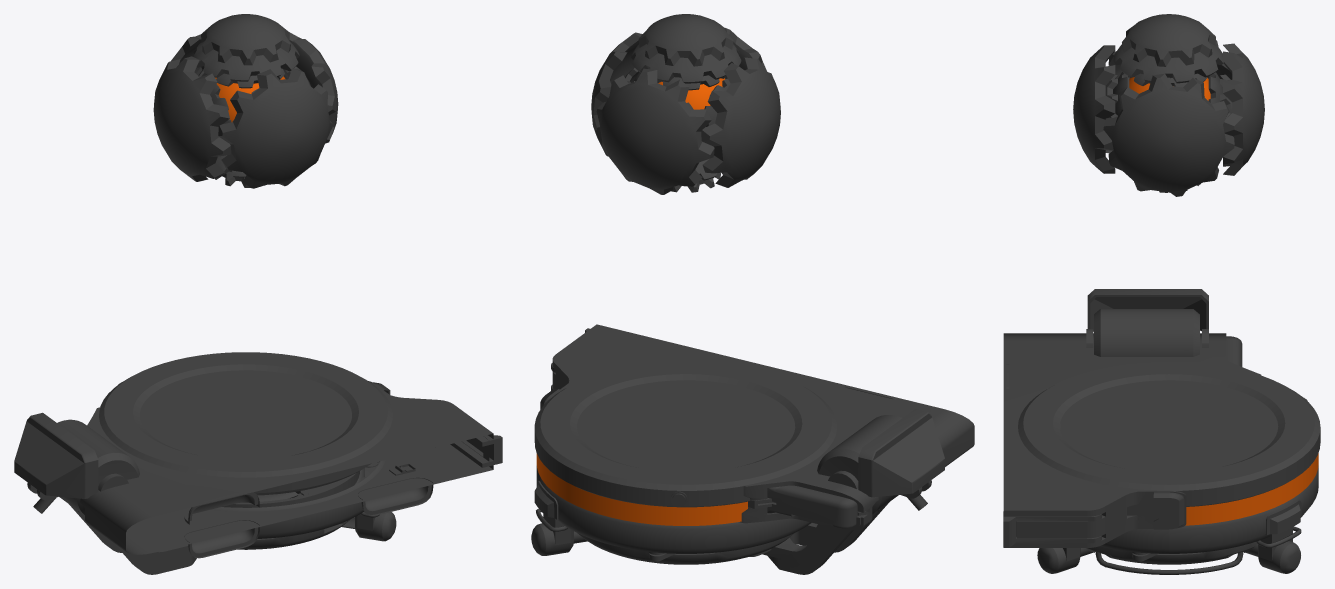
The model's file is PLatform.fbx.
The picture shows the model from 3 angles, left to right: view 1: azimuth 30°, elevation 25°; view 2: azimuth 150°, elevation 25°; view 3: azimuth 270°, elevation 25°; orthographic projection. The views are drawn at different scales.
Visible parts, largest first — view 1: Platform; view 2: Platform; view 3: Platform.
Boxes of the visible parts, x1,y1,x2,y2 form: Platform: (14, 14, 502, 574); Platform: (531, 14, 974, 574); Platform: (1003, 14, 1320, 574).
Size of the model in its own units: 275 by 334 by 183.
